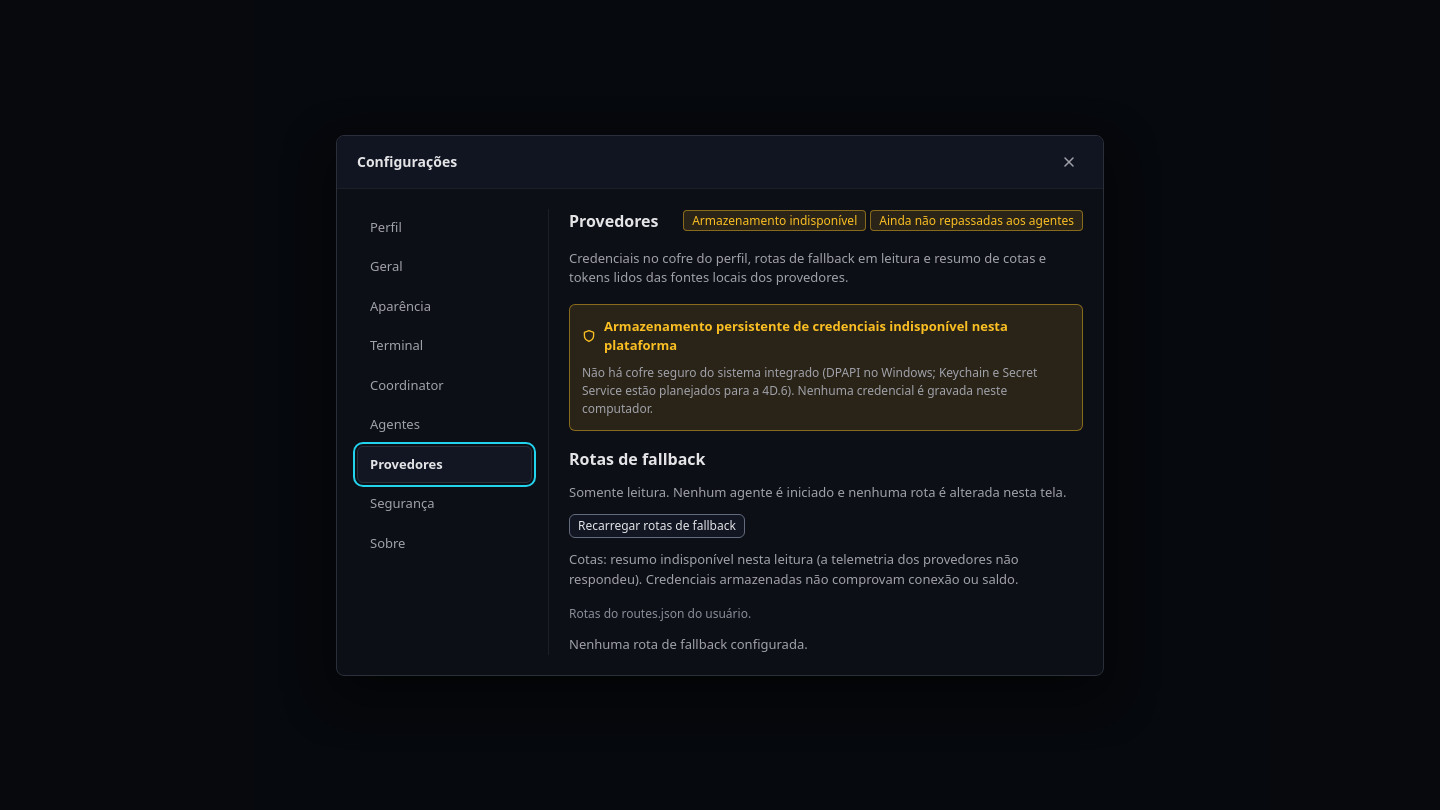
SettingsDialog — estrutura e navegação › marca como não suportado o que exigiria mudar o Core ou um cofre inexistente (D8)
Expected: the text "Armazenamento persistente de credenciais indisponível" is shown, [604,316,1008,354]
Step 1. Click the tab "Agentes" → [444, 425], box [357,406,532,444]
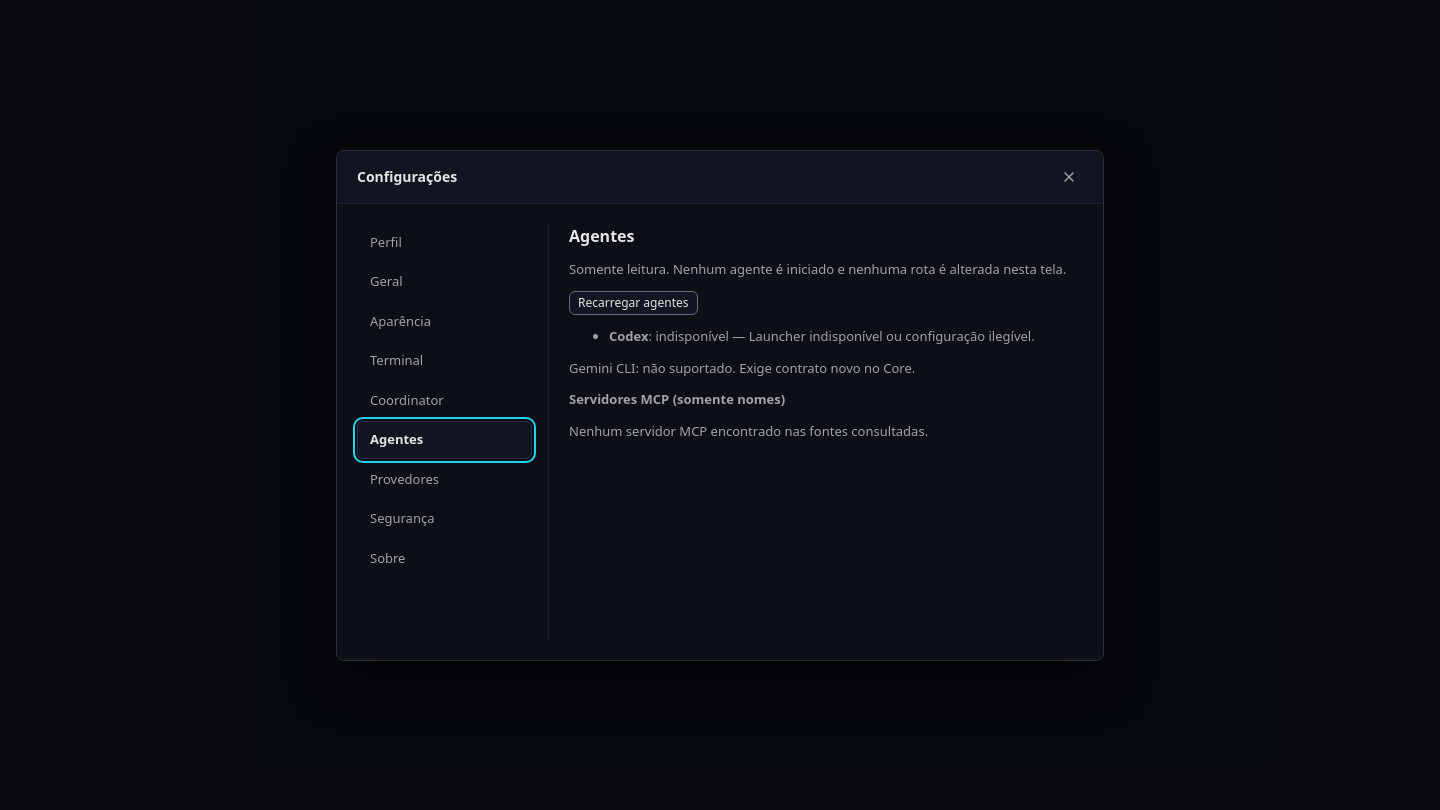
Expected: the text "Gemini CLI: não suportado. Exige contrato novo no Core." is shown, [569,358,915,378]
